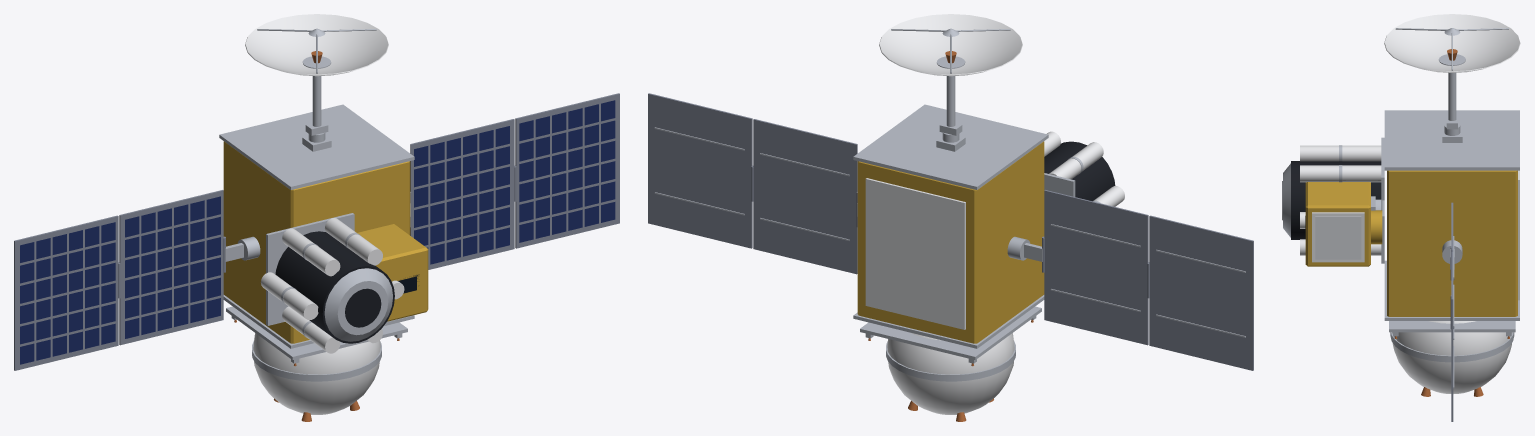
The model's file is ref_s3.glb.
3 renders of one model, left to right at view 1: azimuth 30°, elevation 25°; view 2: azimuth 150°, elevation 25°; view 3: azimuth 270°, elevation 25°, orthographic. The views are drawn at different scales.
Visible parts, largest first — view 1: pan400, espa_body, pan400_celdas_0.001, pan400_celdas_1.001, espa_frame_top, xhga_dish, ms_tank, pan400_hoja_0.001, pan400_hoja_1.001, neut, neut_body, ir_body (+6 smaller); view 2: pan400, espa_body, pan400_hoja_1.001, pan400_hoja_0.001, espa_radiador, espa_frame_top, xhga_dish, ms_tank, ms_deck, neut_body, neut, ms_girdle (+2 smaller); view 3: espa_body, espa_frame_top, xhga_dish, ms_tank, neut, ir_body, ir_louver, neut_body, ms_deck, ms_girdle, pan400, ir_radiator (+8 smaller).
Part boxes in pixels (x1,y1,x2,y2): pan400: [410, 93, 619, 269]; espa_body: [223, 141, 410, 343]; pan400_celdas_0.001: [125, 196, 220, 338]; pan400_celdas_1.001: [20, 222, 115, 364]; espa_frame_top: [219, 104, 414, 189]; xhga_dish: [245, 14, 388, 76]; ms_tank: [253, 333, 380, 414]; pan400_hoja_0.001: [119, 190, 223, 345]; pan400_hoja_1.001: [14, 215, 118, 370]; neut: [260, 218, 404, 353]; neut_body: [275, 231, 394, 343]; ir_body: [357, 224, 428, 321]; pan400: [648, 93, 857, 274]; espa_body: [857, 141, 1044, 343]; pan400_hoja_1.001: [1149, 215, 1253, 370]; pan400_hoja_0.001: [1044, 190, 1148, 345]; espa_radiador: [865, 178, 965, 329]; espa_frame_top: [853, 104, 1048, 189]; xhga_dish: [879, 14, 1022, 76]; ms_tank: [887, 333, 1014, 414]; ms_deck: [860, 306, 1041, 359]; neut_body: [1044, 141, 1115, 201]; neut: [1044, 131, 1124, 206]; ms_girdle: [886, 341, 1015, 381]; espa_body: [1387, 170, 1517, 316]; espa_frame_top: [1384, 110, 1519, 170]; xhga_dish: [1384, 14, 1520, 72]; ms_tank: [1392, 321, 1512, 393]; neut: [1300, 145, 1381, 255]; ir_body: [1305, 182, 1370, 266]; ir_louver: [1315, 216, 1361, 259]; neut_body: [1291, 161, 1381, 239]; ms_deck: [1389, 321, 1515, 332]; ms_girdle: [1390, 332, 1514, 362]; pan400: [1450, 202, 1454, 421]; ir_radiator: [1312, 212, 1364, 262].
Size of the model in its own units: 2.93 by 1.76 by 1.05.
